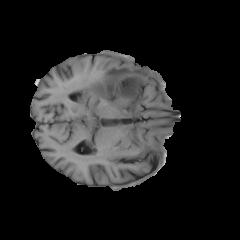glioma: (86, 64, 149, 107)
